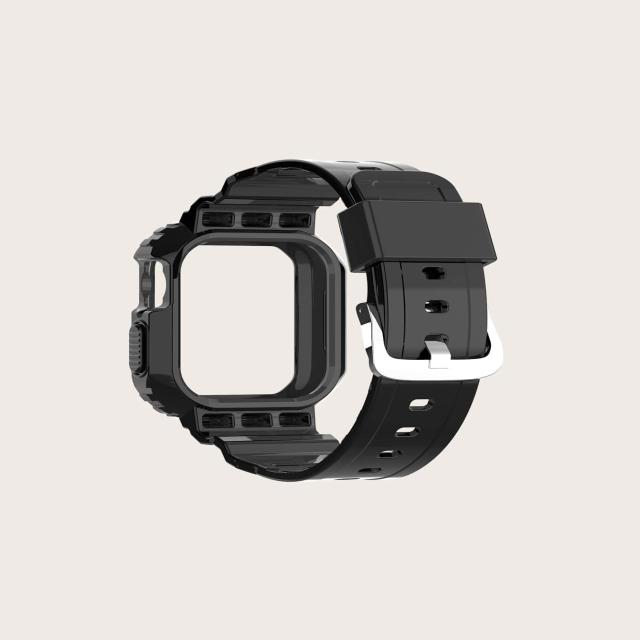bracelet: (36, 91, 580, 540)
